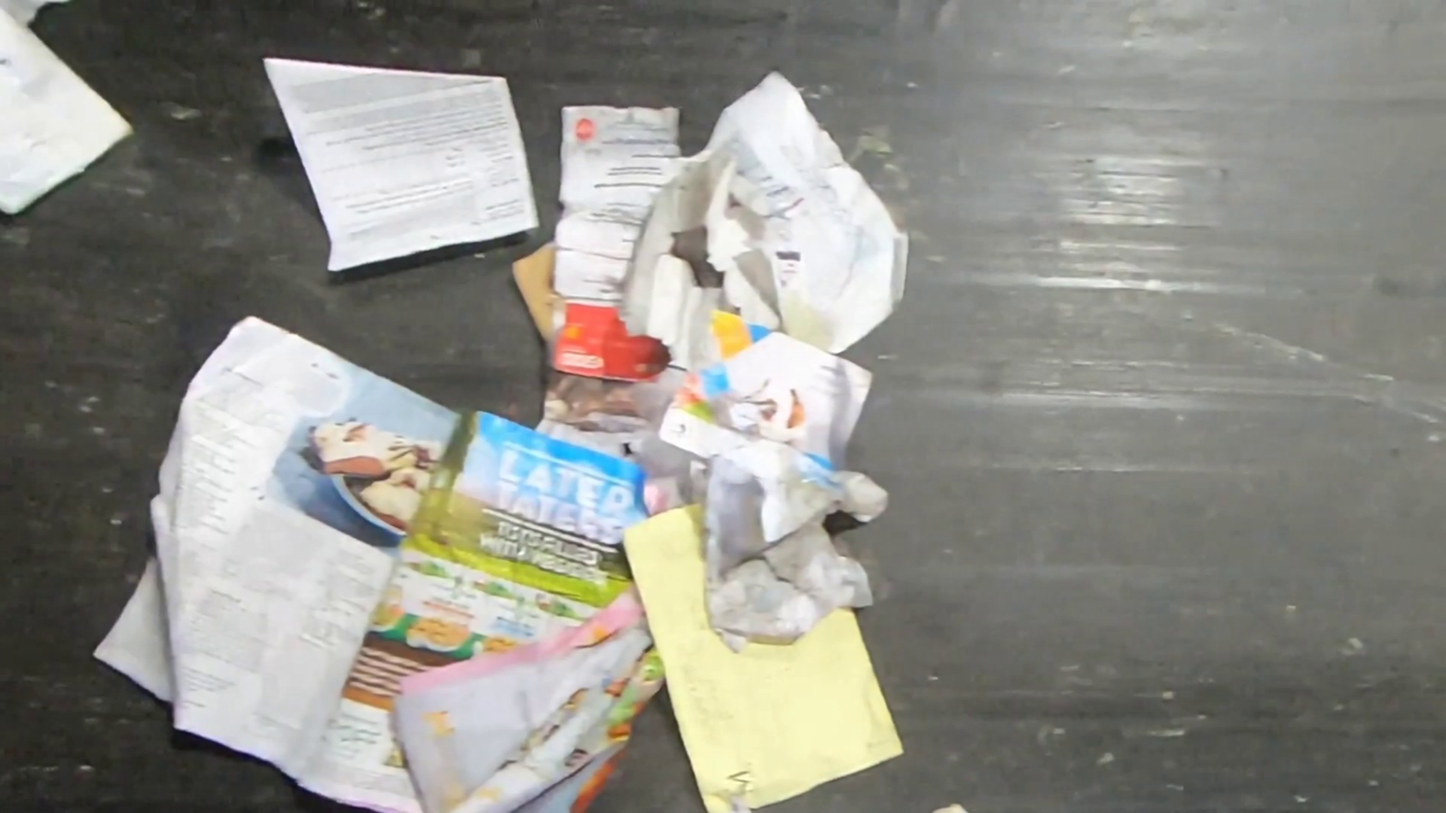cardboard: (505, 240, 556, 350)
